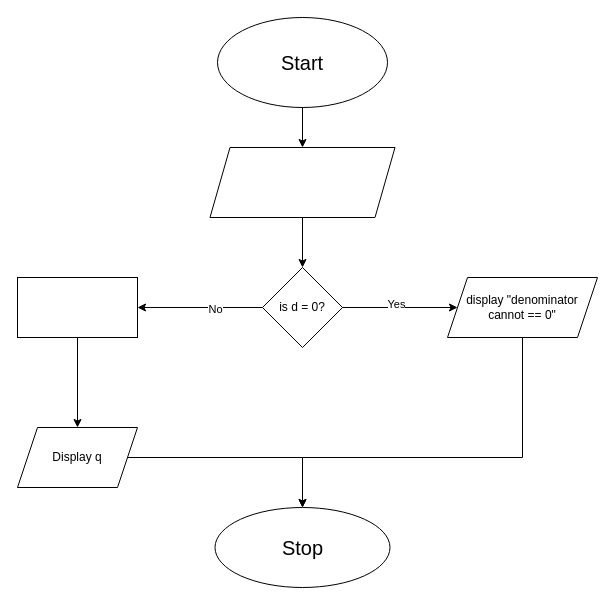
Some shapes in this 615 by 605 pixel diagram are drawn without their labels. The centre of each missing label's shape, as x and y in pixels:
"Calculate q = n / d" belongs at pixel 77 307.
"Take numerator n and denominator d from user" belongs at pixel 302 182.
